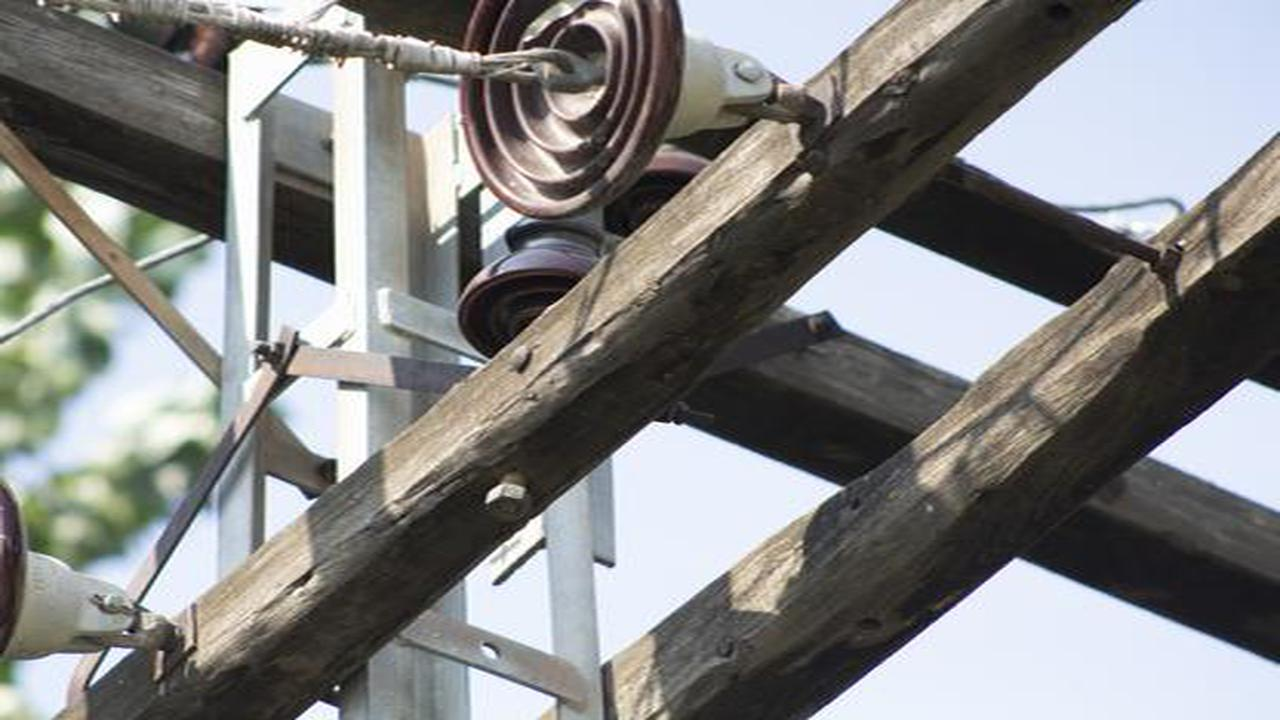insulator_disc: (449, 8, 691, 217)
insulator_pin: (437, 221, 619, 339)
